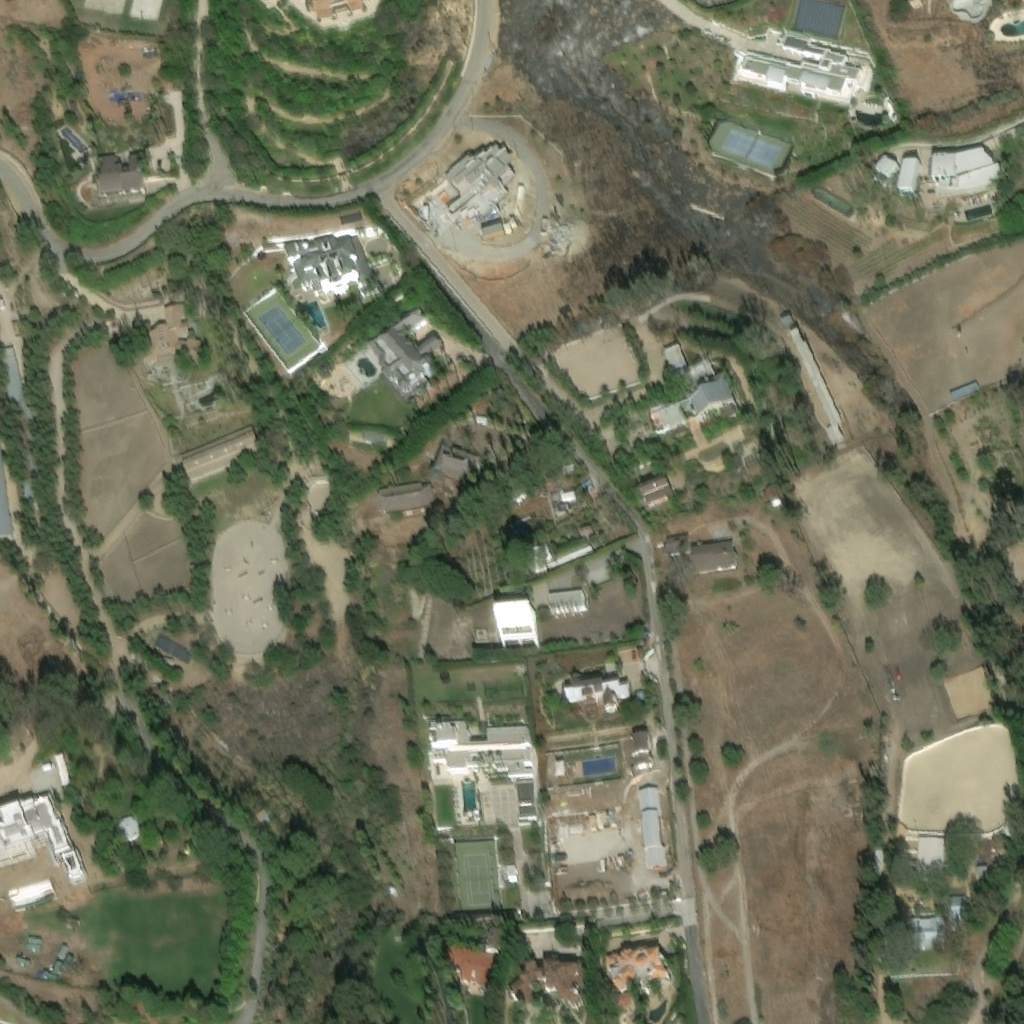0 no-damage: (423, 716, 540, 824), (734, 30, 870, 106), (0, 790, 94, 888), (363, 302, 447, 408), (434, 136, 522, 229), (644, 358, 735, 438), (281, 229, 379, 298), (0, 340, 41, 500), (788, 325, 843, 444), (931, 149, 1021, 209), (132, 300, 207, 368), (179, 424, 264, 483), (509, 951, 587, 1013), (601, 945, 670, 1011), (661, 532, 739, 578), (442, 948, 507, 997), (559, 669, 630, 710), (372, 479, 439, 515), (429, 440, 479, 486), (96, 154, 146, 199), (494, 605, 538, 652), (639, 811, 667, 873), (634, 471, 676, 510), (914, 835, 948, 881), (621, 731, 654, 773), (305, 0, 365, 22), (907, 917, 943, 950), (153, 634, 193, 660), (545, 589, 586, 613), (896, 162, 922, 199), (756, 479, 786, 509), (946, 891, 967, 931), (874, 158, 901, 184), (661, 345, 687, 372), (636, 786, 661, 814), (484, 929, 510, 955), (948, 381, 979, 399), (115, 816, 139, 839), (55, 755, 70, 783), (480, 227, 506, 242), (553, 756, 569, 776), (151, 654, 175, 666), (105, 88, 126, 100), (974, 866, 988, 878), (779, 311, 792, 323), (875, 850, 883, 865), (634, 689, 644, 699)
